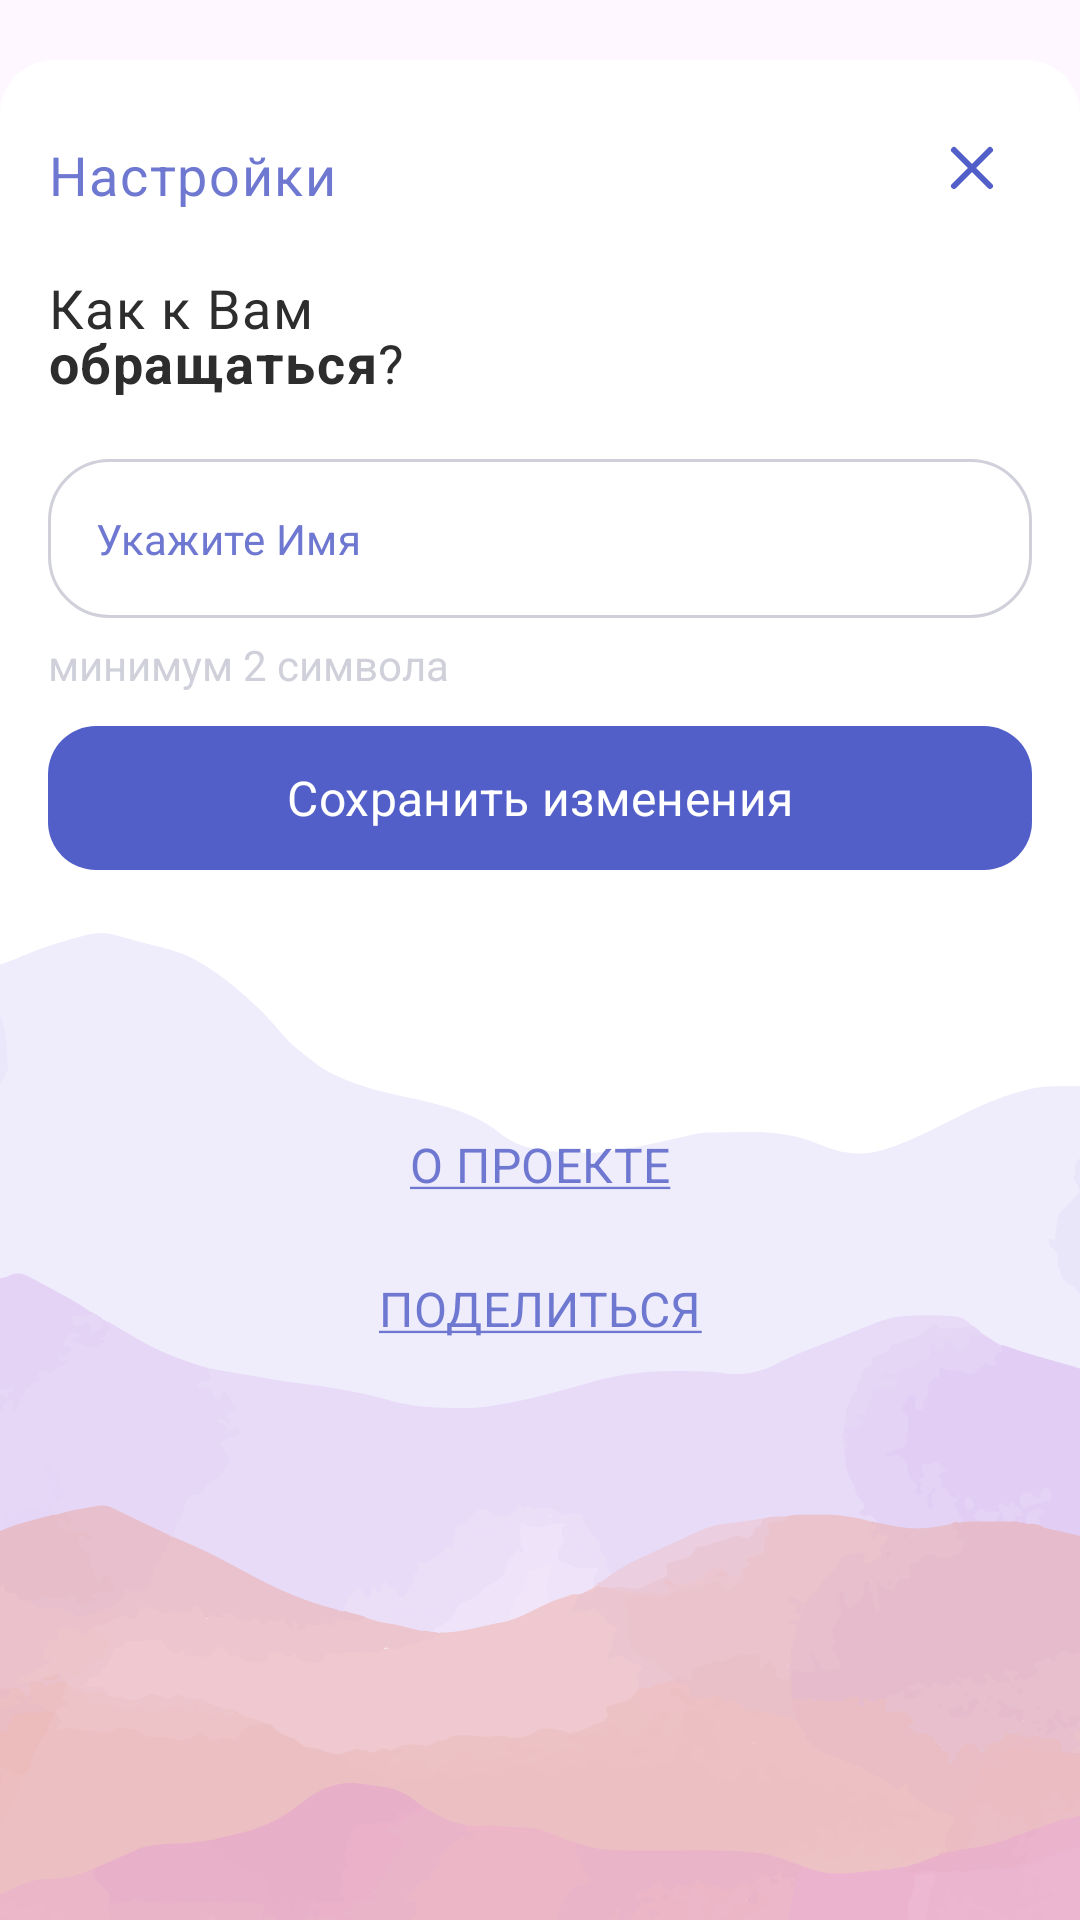

Named icons in this screenshot (1080*1920) and their bounding boxes, {"x1": x1, "y1": y1, "x2": x2, "y2": y2}:
close: {"x1": 951, "y1": 146, "x2": 993, "y2": 189}
